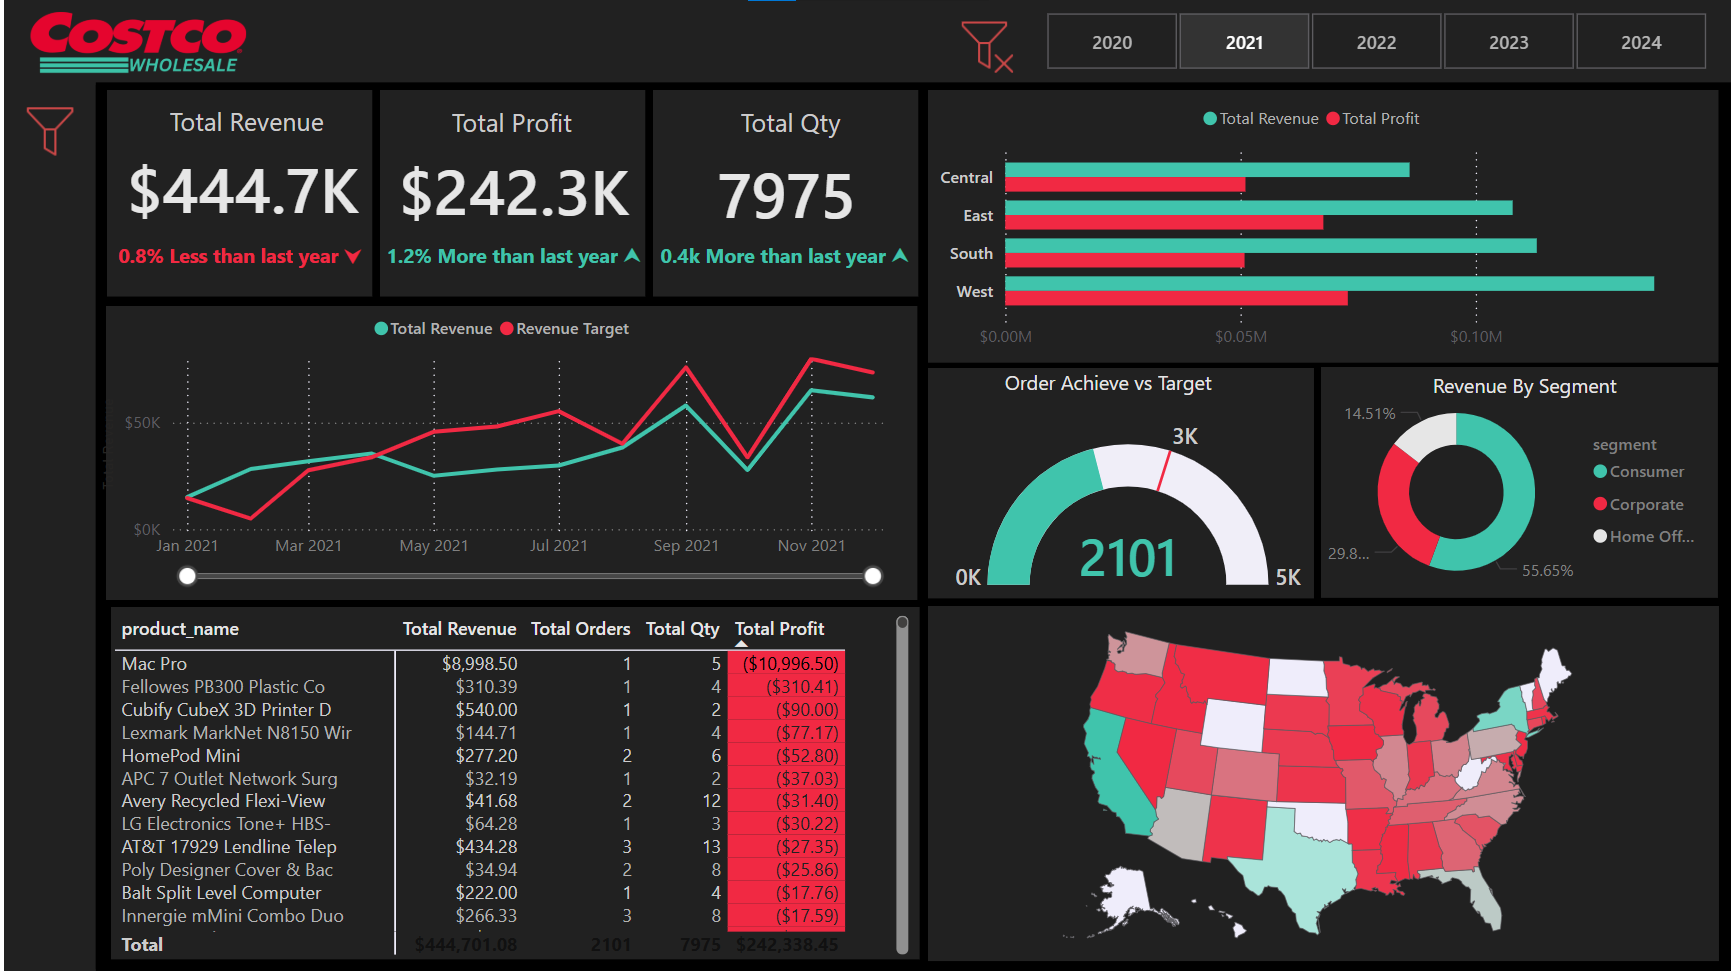

This screenshot's page, from the dashboard's own definition file:
{"tool":"powerbi","page":{"name":"Page 1","canvas":[1280,720],"ordinal":0},"visuals":[{"type":"shape","box":[0,0,1280,61],"z":0,"group":"g15"},{"type":"shape","box":[0,61,68,659],"z":0,"group":"g5"},{"type":"shape","title":"Bar chart shape","box":[684.4,66.7,585.6,202.1],"z":0,"group":"g13"},{"type":"shape","title":"Shape_Total Rev","box":[76,66.9,196.5,153.1],"z":0,"group":"g11"},{"type":"shape","title":"Shape_Total Profit","box":[278.6,66.9,196.5,153.1],"z":0,"group":"g7"},{"type":"group","id":"g1","title":"Total Qty","box":[467,66.9,223.3,153.1],"z":0,"group":"g6"},{"type":"shape","title":"Shape_Total Qty","box":[481.3,66.9,196.5,153.1],"z":0,"group":"g1"},{"type":"group","id":"g2","title":"Line Chart","box":[67,224,609.7,220.5],"z":0,"group":"g14"},{"type":"shape","title":"Line Chart Shape","box":[75.6,226.7,601.1,217.8],"z":0,"group":"g2"},{"type":"group","id":"g3","title":"Pie Chart","box":[969.3,270.4,300.4,183],"z":0,"group":"g12"},{"type":"shape","title":"Shape","box":[974.9,272.1,294,171],"z":0,"group":"g3"},{"type":"shape","title":"Shape","box":[684.4,272.7,285.9,170.7],"z":0,"group":"g8"},{"type":"group","id":"g4","title":"Map","box":[680,449,590,263.3],"z":0,"group":"g9"},{"type":"shape","box":[684.1,449,585.9,263],"z":0,"group":"g4"},{"type":"shape","box":[79.1,450,599,261.3],"z":0,"group":"g10"},{"type":"group","id":"g5","title":"Side Panel","box":[0,61,68,659],"z":500},{"type":"image","title":"Clear Filters - Image","box":[704.2,5.9,47.6,57.1],"z":1000,"group":"g15"},{"type":"group","id":"g6","title":"KPIs","box":[63,60,627.3,160],"z":1000,"group":"g14"},{"type":"group","id":"g7","title":"Total Profit","box":[266.1,60,223.3,160],"z":1000,"group":"g6"},{"type":"card","title":"Total Profit Card","fields":{"Values":["measures_.Total Profit"]},"box":[279.3,60,196.7,159.9],"z":1000,"group":"g7"},{"type":"card","title":"Total Rev Card","fields":{"Values":["measures_.Total Revenue"]},"box":[75.6,60.1,202.5,157.3],"z":1000,"group":"g11"},{"type":"card","title":"Total Qty Card","fields":{"Values":["measures_.Total Qty"]},"box":[484.8,66.9,190.4,151],"z":1000,"group":"g1"},{"type":"clusteredBarChart","title":"Chart - Total Rev & profit by region","fields":{"Category":["customers.region"],"Y":["measures_.Total Revenue","measures_.Total Profit"]},"box":[686.7,67.9,567.9,199.3],"z":1000,"group":"g13"},{"type":"image","title":"Filter - Image","box":[9.5,69,48.8,57.1],"z":1000,"group":"g5"},{"type":"lineChart","fields":{"Y2":["measures_.Revenue Target"],"Y":["measures_.Total Revenue"],"Category":["Date Table.Month Start Date"]},"box":[67,224,607.9,214.3],"z":1000,"group":"g2"},{"type":"group","id":"g8","title":"Gauge Chart","box":[684.4,268,286.2,182.6],"z":1000,"group":"g12"},{"type":"donutChart","title":"Pie Chart","fields":{"Y":["measures_.Total Revenue"],"Category":["customers.segment"]},"box":[969.3,275.7,300.4,177.6],"z":1000,"group":"g3"},{"type":"gauge","title":"Gauge Chart","fields":{"Y":["measures_.Total Orders"],"TargetValue":["measures_.Total Order Target"],"MaxValue":["measures_.Gauge Max Value"]},"box":[695.1,290.8,275.5,159.8],"z":1000,"group":"g8"},{"type":"group","id":"g9","title":"sec 3/3","box":[77,449,1193,263.3],"z":1000},{"type":"group","id":"g10","title":"Matrix","box":[77,450,601.1,261.6],"z":1000,"group":"g9"},{"type":"shapeMap","fields":{"Category":["customers.state"],"Value":["measures_.Total Revenue"]},"box":[680,450.3,585.9,262],"z":1000,"group":"g4"},{"type":"pivotTable","fields":{"Rows":["products.product_name"],"Values":["measures_.Total Revenue","measures_.Total Orders","measures_.Total Qty","measures_.Total Profit"]},"box":[77,451.1,597.7,260.5],"z":1000,"group":"g10"},{"type":"textbox","box":[735.9,268,198.1,29.8],"z":1500,"group":"g8"},{"type":"textbox","title":"Title textBox","box":[1052.7,270.4,159.8,37.7],"z":1500,"group":"g3"},{"type":"slicer","title":"Year Slicer","fields":{"Values":["Date Table.Year"]},"box":[751.8,5.9,528.2,48.8],"z":2000,"group":"g15"},{"type":"group","id":"g11","title":"Total Revenue","box":[63,60.1,223.3,159.9],"z":2000,"group":"g6"},{"type":"group","id":"g12","title":"sec 2/3","box":[684.4,66.7,585.6,386.7],"z":2000},{"type":"group","id":"g13","title":"Bar Chart","box":[684.4,66.7,585.6,202.1],"z":2000,"group":"g12"},{"type":"textbox","title":"total revText box","box":[118,72,145.5,38.3],"z":2000,"group":"g11"},{"type":"textbox","title":"total qtyText box","box":[541.3,72.6,120.7,38.3],"z":2000,"group":"g1"},{"type":"textbox","title":"total profitText box","box":[327,72.7,145.5,38.3],"z":2000,"group":"g7"},{"type":"image","title":"Logo","box":[0,0,199.6,68.8],"z":3000,"group":"g15"},{"type":"group","id":"g14","title":"sec 1/3","box":[63,60,627.3,384.4],"z":3000},{"type":"card","title":"profit diff rate","fields":{"Values":["measures_.Profit diff"]},"box":[266.1,174.8,223.3,33.8],"z":3000,"group":"g7"},{"type":"card","title":"qty diff rate","fields":{"Values":["measures_.Qty diff"]},"box":[467,174.8,223.3,33.8],"z":3000,"group":"g1"},{"type":"card","title":"rev diff rate","fields":{"Values":["measures_.Rev Diff"]},"box":[63,175,223.3,33.8],"z":3000,"group":"g11"},{"type":"group","id":"g15","title":"Heading","box":[0,0,1280,68.8],"z":4000}]}

Visuals, with their boxes in screenshot pixels (x1, y1, x2, y2), scaled from the page's 1280x720 canvas onto the 1731x971 screenshot:
shape: box=[0, 0, 1730, 82]
shape: box=[0, 82, 92, 970]
"Bar chart shape" shape: box=[926, 90, 1717, 363]
"Shape_Total Rev" shape: box=[103, 90, 369, 297]
"Shape_Total Profit" shape: box=[377, 90, 642, 297]
"Total Qty" group: box=[632, 90, 934, 297]
"Shape_Total Qty" shape: box=[651, 90, 917, 297]
"Line Chart" group: box=[91, 302, 915, 599]
"Line Chart Shape" shape: box=[102, 306, 915, 599]
"Pie Chart" group: box=[1311, 365, 1717, 611]
"Shape" shape: box=[1318, 367, 1716, 598]
"Shape" shape: box=[926, 368, 1312, 598]
"Map" group: box=[920, 606, 1717, 961]
shape: box=[925, 606, 1717, 960]
shape: box=[107, 607, 917, 959]
"Side Panel" group: box=[0, 82, 92, 970]
"Clear Filters - Image" image: box=[952, 8, 1017, 85]
"KPIs" group: box=[85, 81, 934, 297]
"Total Profit" group: box=[360, 81, 662, 297]
"Total Profit Card" card: box=[378, 81, 644, 297]
"Total Rev Card" card: box=[102, 81, 376, 293]
"Total Qty Card" card: box=[656, 90, 913, 294]
"Chart - Total Rev & profit by region" clusteredBarChart: box=[929, 92, 1697, 360]
"Filter - Image" image: box=[13, 93, 79, 170]
lineChart - measures_.Revenue Target x measures_.Total Revenue: box=[91, 302, 913, 591]
"Gauge Chart" group: box=[926, 361, 1313, 608]
"Pie Chart" donutChart: box=[1311, 372, 1717, 611]
"Gauge Chart" gauge: box=[940, 392, 1313, 608]
"sec 3/3" group: box=[104, 606, 1717, 961]
"Matrix" group: box=[104, 607, 917, 960]
shapeMap - customers.state x measures_.Total Revenue: box=[920, 607, 1712, 961]
pivotTable - products.product_name x measures_.Total Revenue: box=[104, 608, 912, 960]
textbox: box=[995, 361, 1263, 402]
"Title textBox" textbox: box=[1424, 365, 1640, 416]
"Year Slicer" slicer: box=[1017, 8, 1730, 74]
"Total Revenue" group: box=[85, 81, 387, 297]
"sec 2/3" group: box=[926, 90, 1717, 611]
"Bar Chart" group: box=[926, 90, 1717, 363]
"total revText box" textbox: box=[160, 97, 356, 149]
"total qtyText box" textbox: box=[732, 98, 895, 150]
"total profitText box" textbox: box=[442, 98, 639, 150]
"Logo" image: box=[0, 0, 270, 93]
"sec 1/3" group: box=[85, 81, 934, 599]
"profit diff rate" card: box=[360, 236, 662, 281]
"qty diff rate" card: box=[632, 236, 934, 281]
"rev diff rate" card: box=[85, 236, 387, 282]
"Heading" group: box=[0, 0, 1730, 93]
